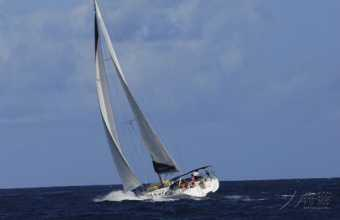fanchuan: (82, 1, 219, 202)
